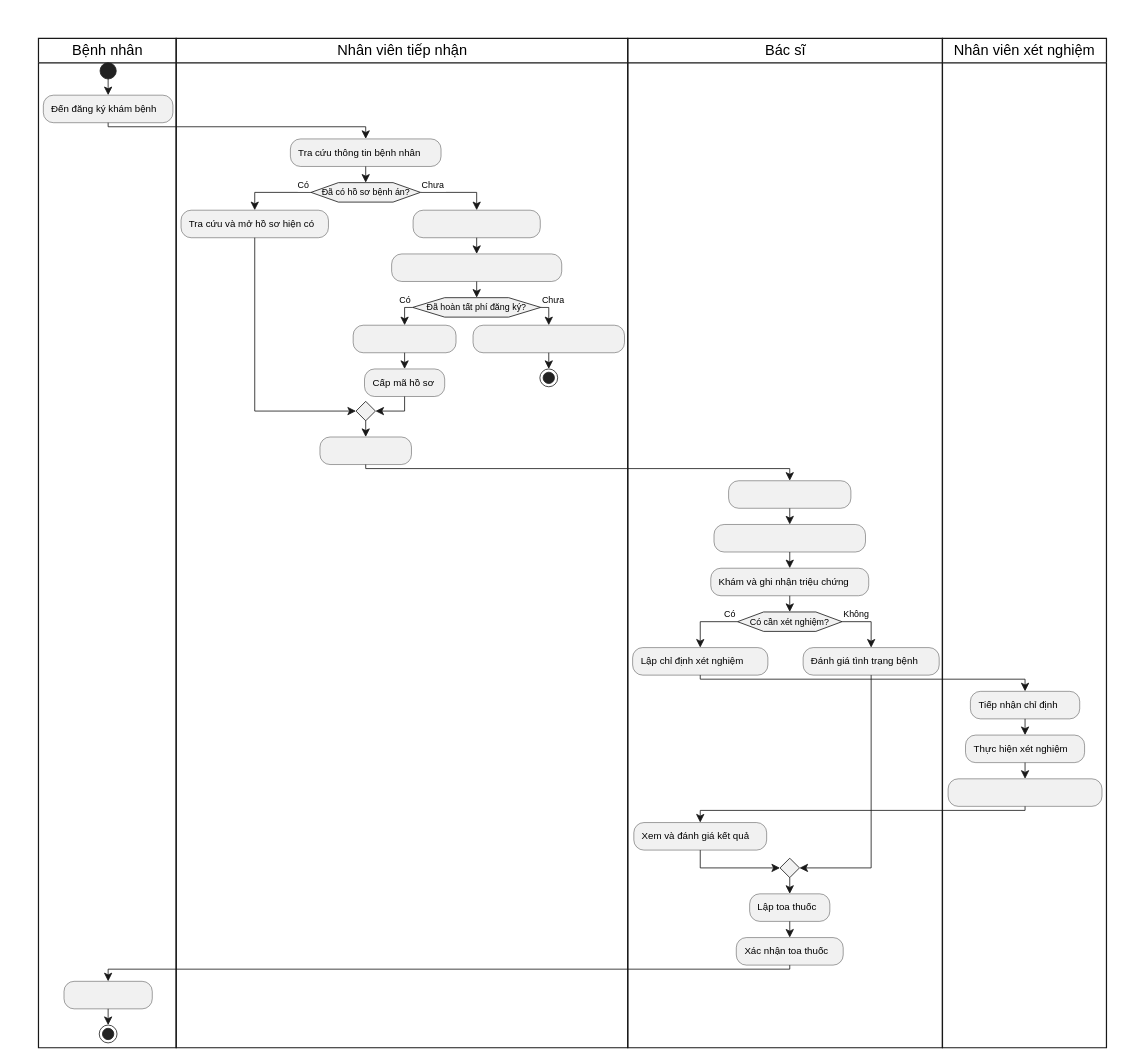
This 1121x1062 diagram has some shape labels left out. Each missing label, with the centre of its shape:
Cập nhật kết quả xét nghiệm: point (1025, 792)
Ghi nhận phí đăng ký hằng năm: point (476, 267)
Lập phiếu khám: point (365, 450)
Nhận toa thuốc: point (107, 995)
Nhập thông tin đăng ký: point (476, 224)
Thông báo chưa đủ điều kiện: point (548, 339)
Tiếp nhận phiếu khám: point (789, 494)
Tạo hồ sơ bệnh án: point (404, 339)
Xem lịch sử bệnh án khi cần: point (789, 538)
